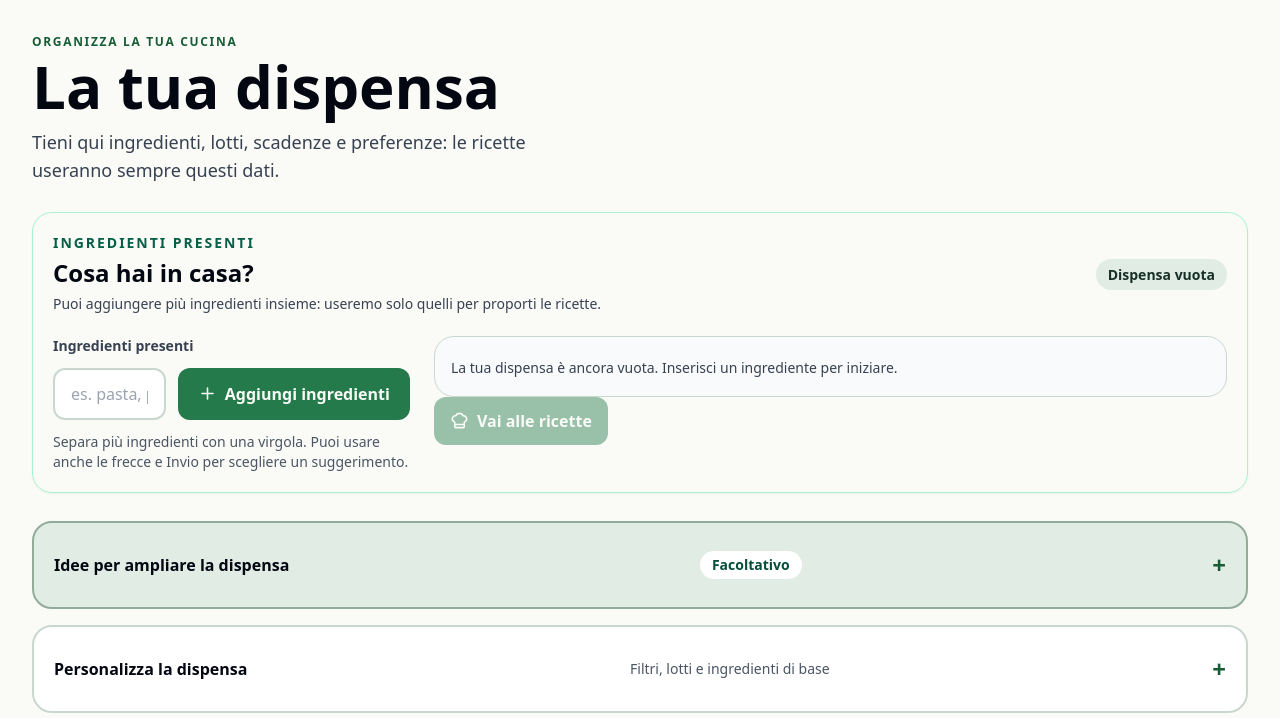
Test: PantryPage › owns ingredient entry and shows added items in the pantry
This screenshot has width=1280, height=718.
Type "pasta, tonno" into the dropdown labelled "Ingredienti presenti" at (109, 394), box [53,368,166,420]
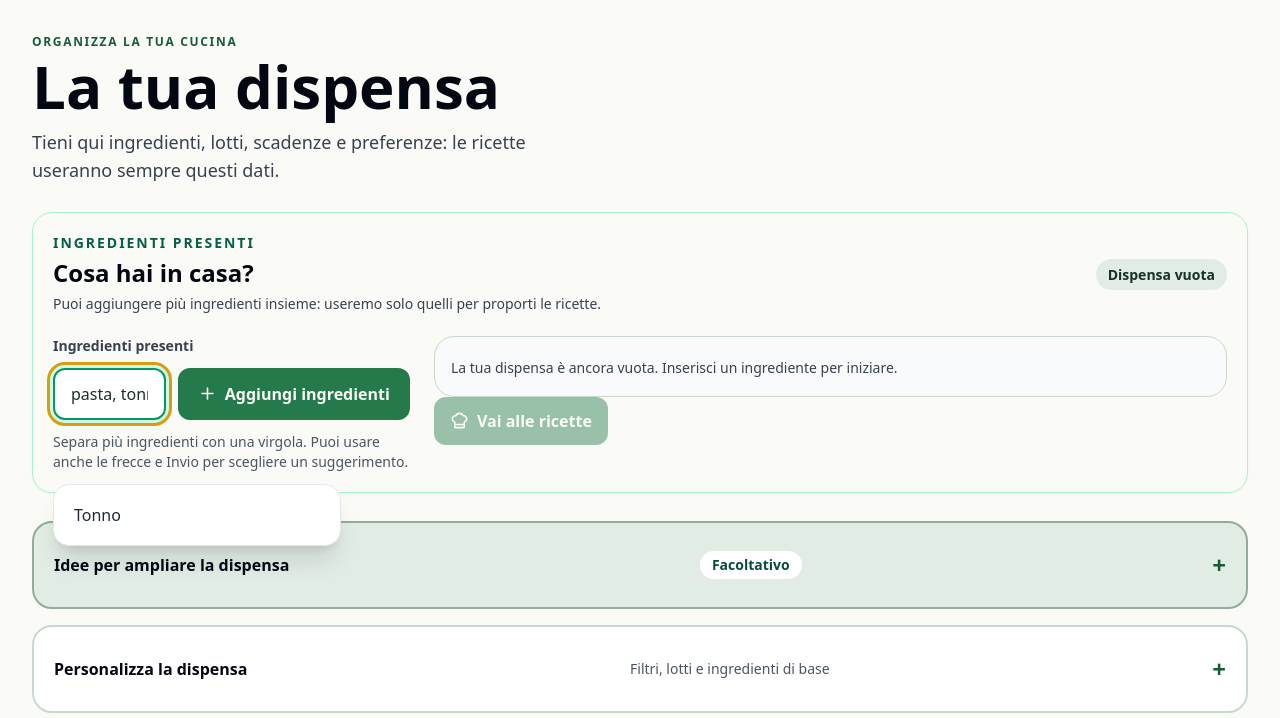
Click the button "Aggiungi ingredienti" at (294, 394), box [178,368,410,420]
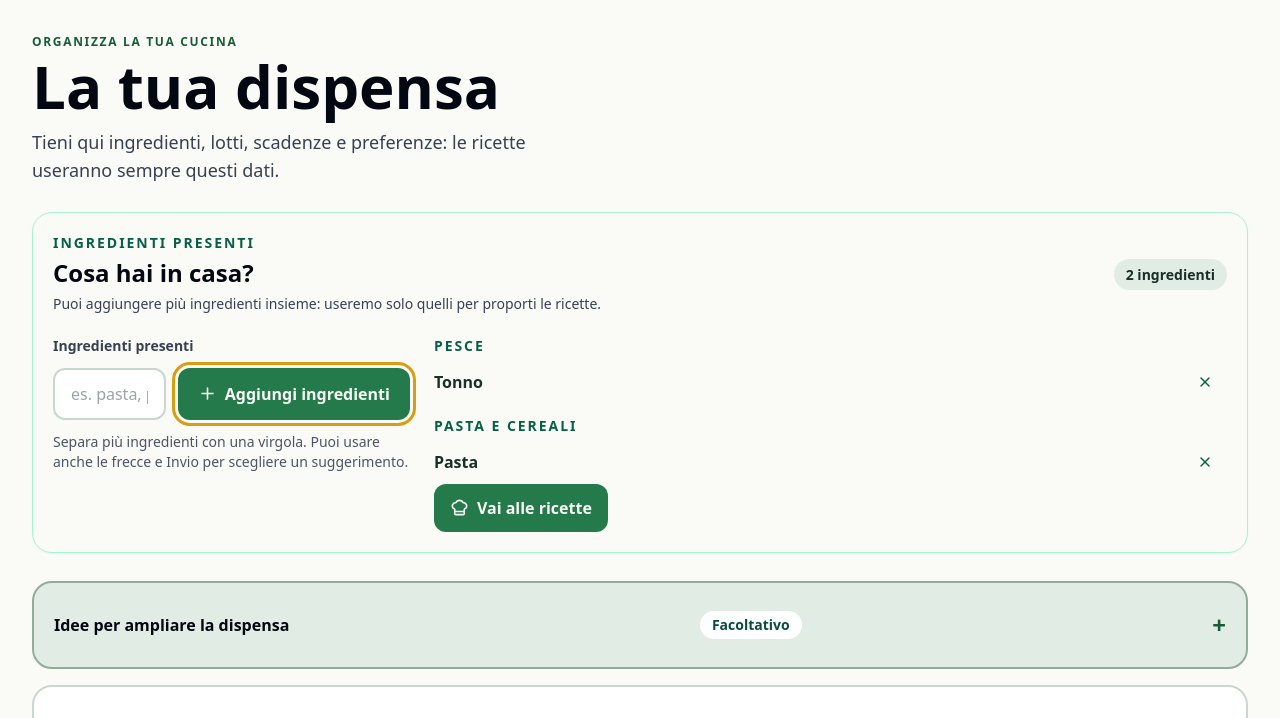
Result: the text "Tonno" is shown at [434,370,483,394]
Result: the text "Pasta" is shown at [434,450,478,474]
